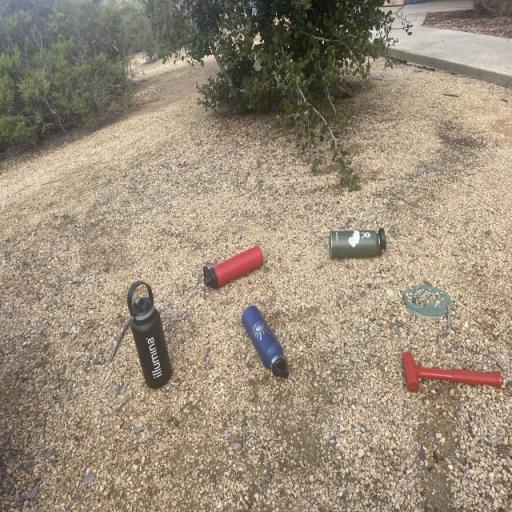bottle: (126, 280, 174, 389), (240, 305, 290, 378), (202, 245, 264, 288), (328, 227, 388, 260)
mallet: (401, 351, 502, 394)
